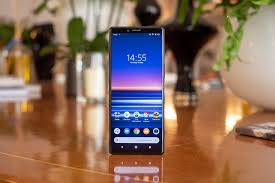sony: (105, 24, 167, 158)
